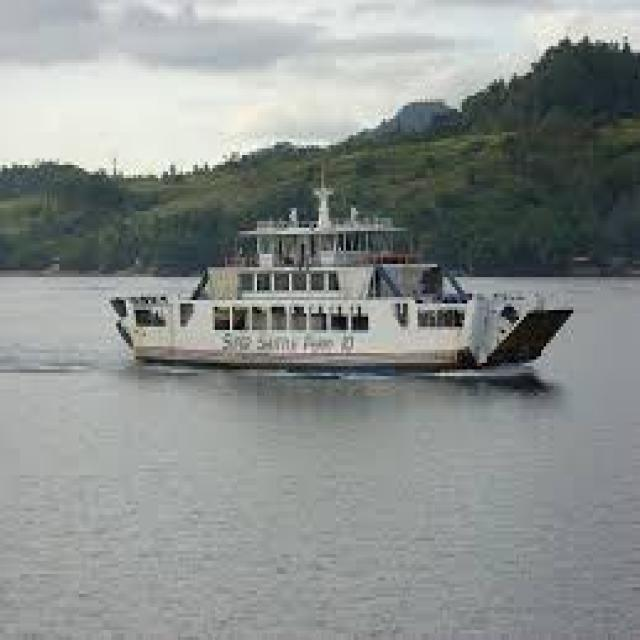passenger ship: (100, 183, 543, 376)
